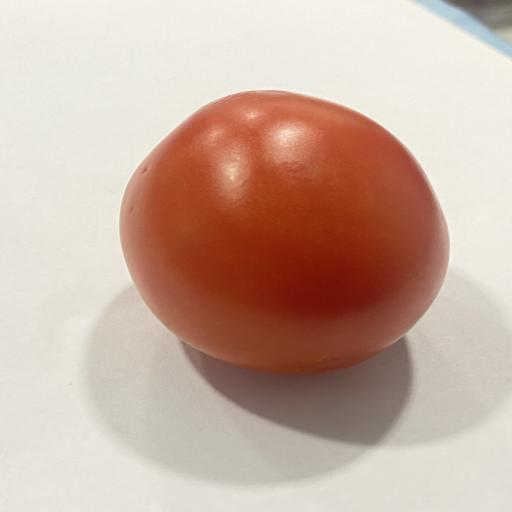ripe: (120, 91, 449, 373)
